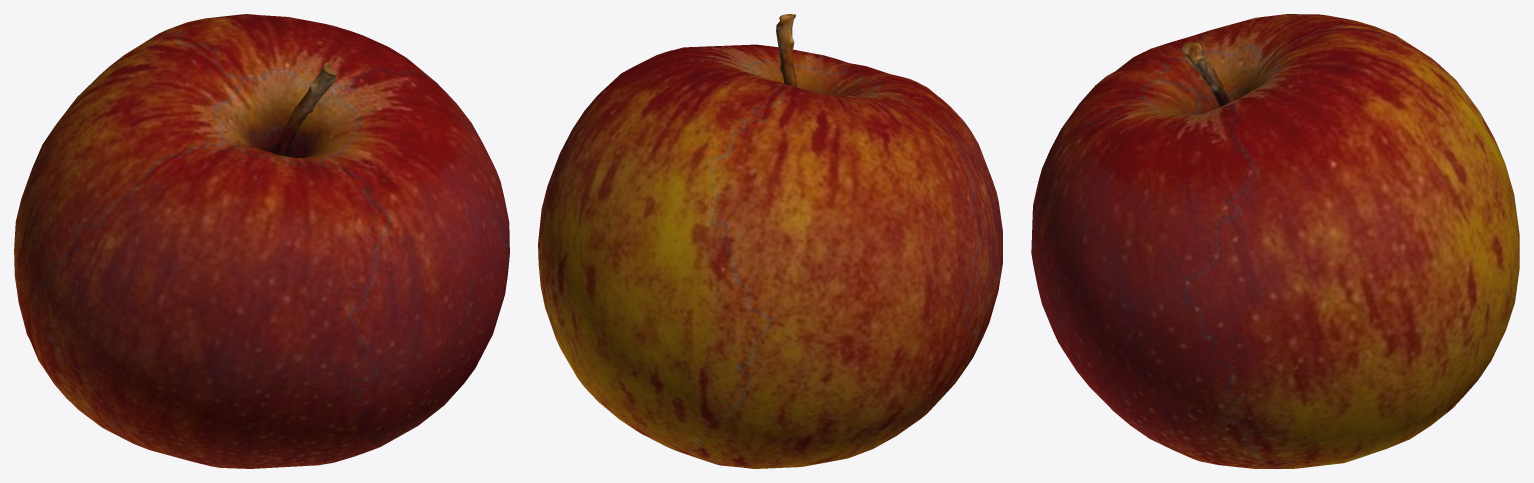
The model's file is food_apple_01.glb.
The picture shows the model from 3 angles, left to right: view 1: azimuth 30°, elevation 25°; view 2: azimuth 150°, elevation 25°; view 3: azimuth 270°, elevation 25°; orthographic projection. The views are drawn at different scales.
Visible parts, largest first — view 1: food_apple_01; view 2: food_apple_01; view 3: food_apple_01.
Boxes of the visible parts, x1,y1,x2,y2 form: food_apple_01: (14,14,509,468); food_apple_01: (538,14,1002,468); food_apple_01: (1031,14,1519,468).
Bounding box in the file's own units: 0.0976 × 0.0854 × 0.0958.
Materials: 1 (1 with a texture image).
